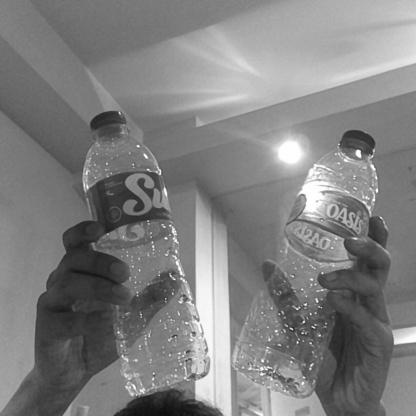plastic_bottles: (228, 128, 379, 400), (81, 106, 213, 397)
